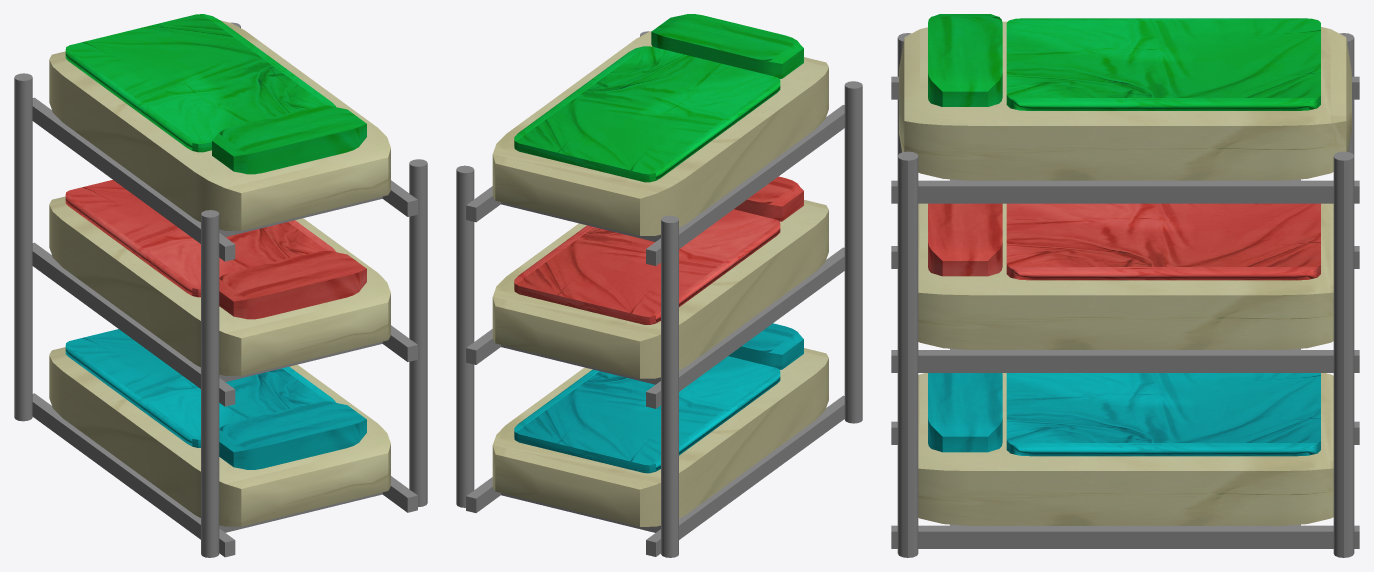
File: 3 Beds.fbx
The picture shows the model from 3 angles, left to right: view 1: azimuth 30°, elevation 25°; view 2: azimuth 150°, elevation 25°; view 3: azimuth 270°, elevation 25°; orthographic projection. The views are drawn at different scales.
Visible parts, largest first — view 1: Cube.011, Cube.008, Cube, Cube.004, Cube.010, Cube.002, Cube.006, Cube.009, Cube.005, Cube.001; view 2: Cube.011, Cube.008, Cube.010, Cube, Cube.004, Cube.002, Cube.006, Cube.009, Cube.001, Cube.005; view 3: Cube.011, Cube.008, Cube, Cube.004, Cube.010, Cube.002, Cube.006, Cube.009, Cube.001, Cube.005.
Boxes of the visible parts, bbox=[...] form: Cube.011: bbox=[14, 22, 427, 557]; Cube.008: bbox=[49, 20, 390, 230]; Cube: bbox=[49, 347, 390, 526]; Cube.004: bbox=[49, 196, 390, 375]; Cube.010: bbox=[65, 14, 335, 152]; Cube.002: bbox=[65, 329, 336, 447]; Cube.006: bbox=[65, 180, 335, 297]; Cube.009: bbox=[212, 105, 366, 174]; Cube.005: bbox=[219, 251, 366, 319]; Cube.001: bbox=[219, 401, 366, 469]; Cube.011: bbox=[456, 31, 862, 557]; Cube.008: bbox=[492, 31, 828, 235]; Cube.010: bbox=[514, 46, 780, 182]; Cube: bbox=[492, 348, 828, 526]; Cube.004: bbox=[492, 200, 828, 378]; Cube.002: bbox=[514, 356, 780, 473]; Cube.006: bbox=[514, 209, 780, 324]; Cube.009: bbox=[651, 14, 803, 78]; Cube.001: bbox=[728, 323, 803, 369]; Cube.005: bbox=[734, 176, 803, 221]; Cube.011: bbox=[891, 33, 1359, 557]; Cube.008: bbox=[899, 21, 1351, 180]; Cube: bbox=[918, 373, 1333, 525]; Cube.004: bbox=[918, 203, 1333, 349]; Cube.010: bbox=[1006, 18, 1320, 110]; Cube.002: bbox=[1006, 373, 1320, 456]; Cube.006: bbox=[1006, 203, 1320, 280]; Cube.009: bbox=[928, 14, 1002, 106]; Cube.001: bbox=[928, 373, 1002, 452]; Cube.005: bbox=[928, 203, 1002, 276].
Bounding box in the file's own units: 379 × 617 × 587.
